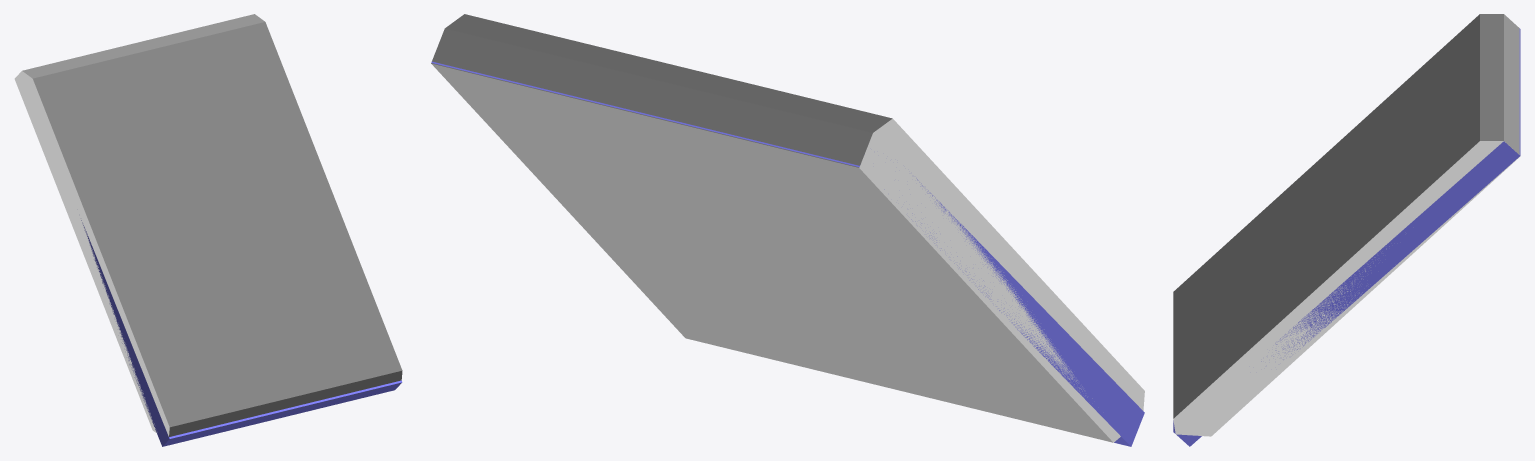
The model's file is SM_Dummy_Roof.fbx.
The picture shows the model from 3 angles, left to right: view 1: azimuth 30°, elevation 25°; view 2: azimuth 150°, elevation 25°; view 3: azimuth 270°, elevation 25°; orthographic projection. The views are drawn at different scales.
Parts seen in each view (by area): view 1: SM_Dummy_Roof_ConvexHulls, SM_Dummy_Roof; view 2: SM_Dummy_Roof_ConvexHulls, SM_Dummy_Roof; view 3: SM_Dummy_Roof_ConvexHulls, SM_Dummy_Roof.
Boxes of the visible parts, x1=… form: SM_Dummy_Roof_ConvexHulls: x1=14, y1=14, x2=402, y2=440; SM_Dummy_Roof: x1=81, y1=220, x2=402, y2=446; SM_Dummy_Roof_ConvexHulls: x1=431, y1=14, x2=1144, y2=442; SM_Dummy_Roof: x1=431, y1=61, x2=1144, y2=446; SM_Dummy_Roof_ConvexHulls: x1=1173, y1=14, x2=1520, y2=436; SM_Dummy_Roof: x1=1173, y1=28, x2=1520, y2=446.
Bounding box in the file's own units: 300 × 347 × 337.
2 materials, 1 textured.
